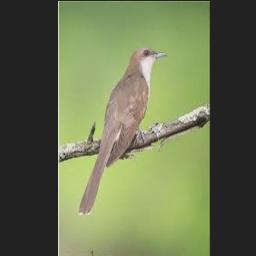Cuckoo: (79, 47, 167, 214)
